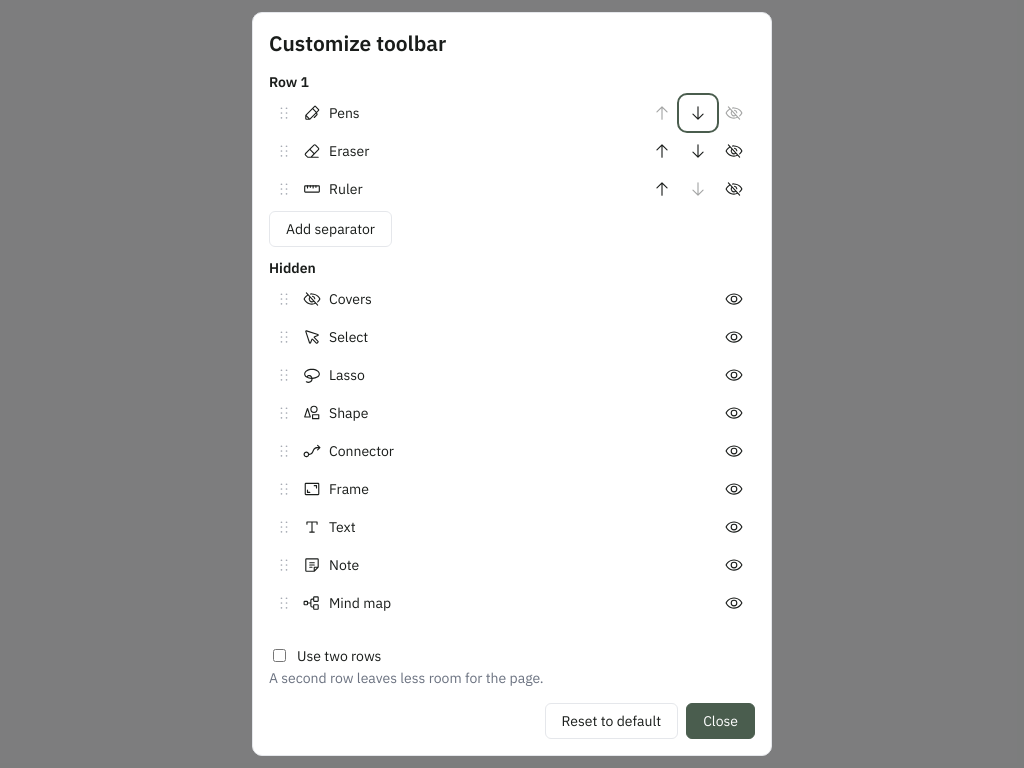
Scenario: CustomizeToolbar › two_rows_switch_adds_and_removes_the_second_row
Click the checkbox labelled "Use two rows". click: (280, 656)
box: x1=273 y1=649 x2=286 y2=662
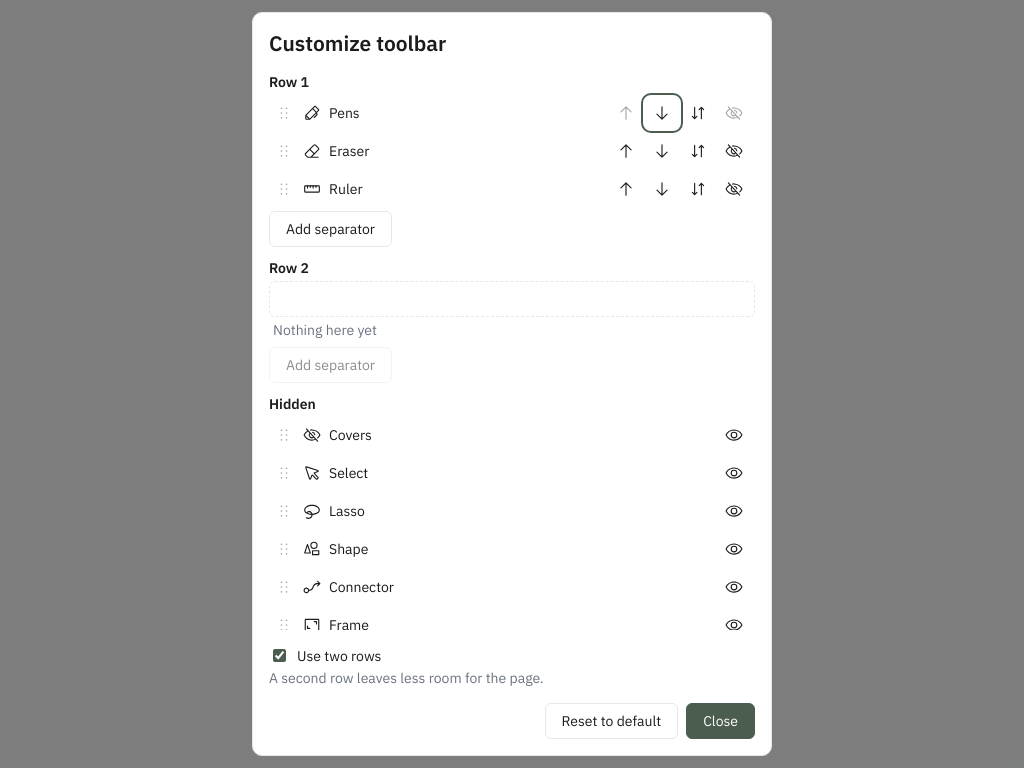
Expected: the checkbox labelled "Use two rows" is checked, x1=273 y1=649 x2=286 y2=662
Expected: the list named "Row 2" is shown, x1=269 y1=281 x2=755 y2=317
Expected: the text "Nothing here yet" is shown, x1=273 y1=321 x2=377 y2=339
Click the button named "Move Ruler to the other row". click: (698, 189)
box: x1=681 y1=173 x2=715 y2=205
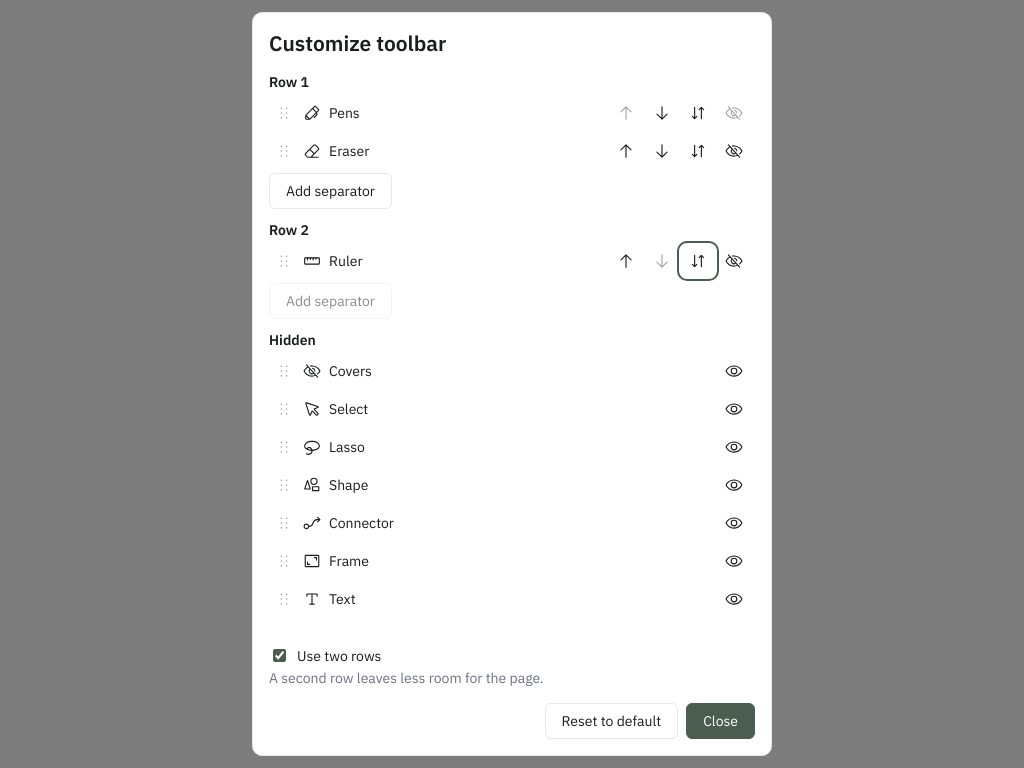
Click the checkbox labelled "Use two rows". click: (280, 656)
box: x1=273 y1=649 x2=286 y2=662
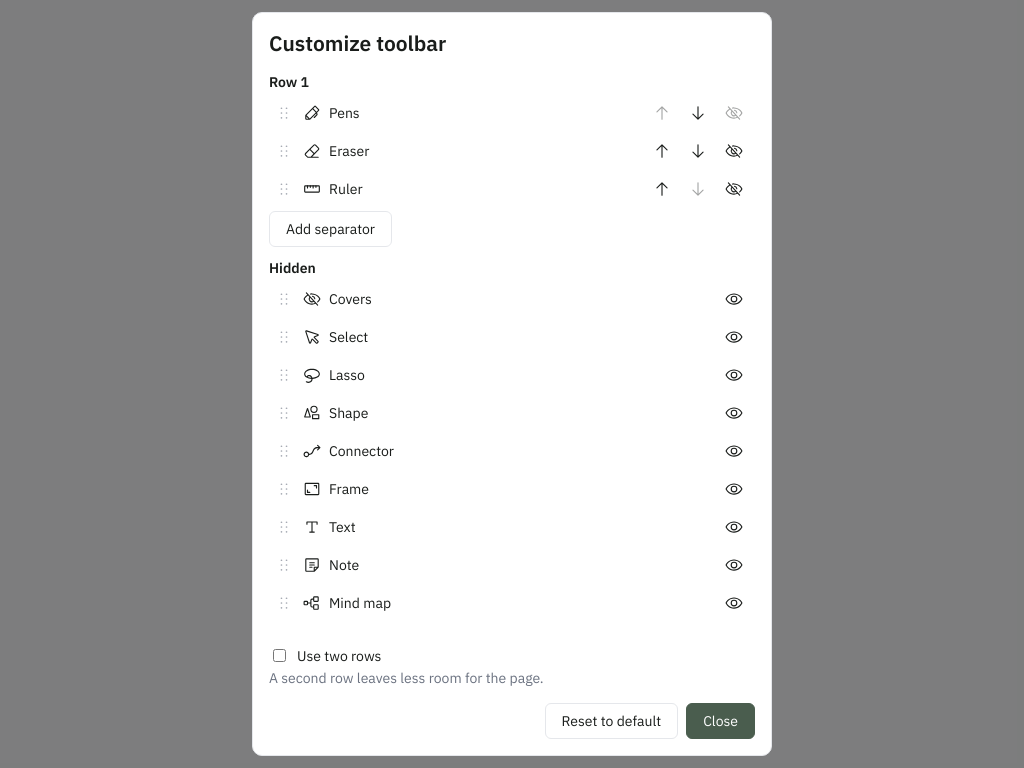
Expected: the checkbox labelled "Use two rows" is not checked, x1=273 y1=649 x2=286 y2=662
Expected: the heading "Row 2" is gone
